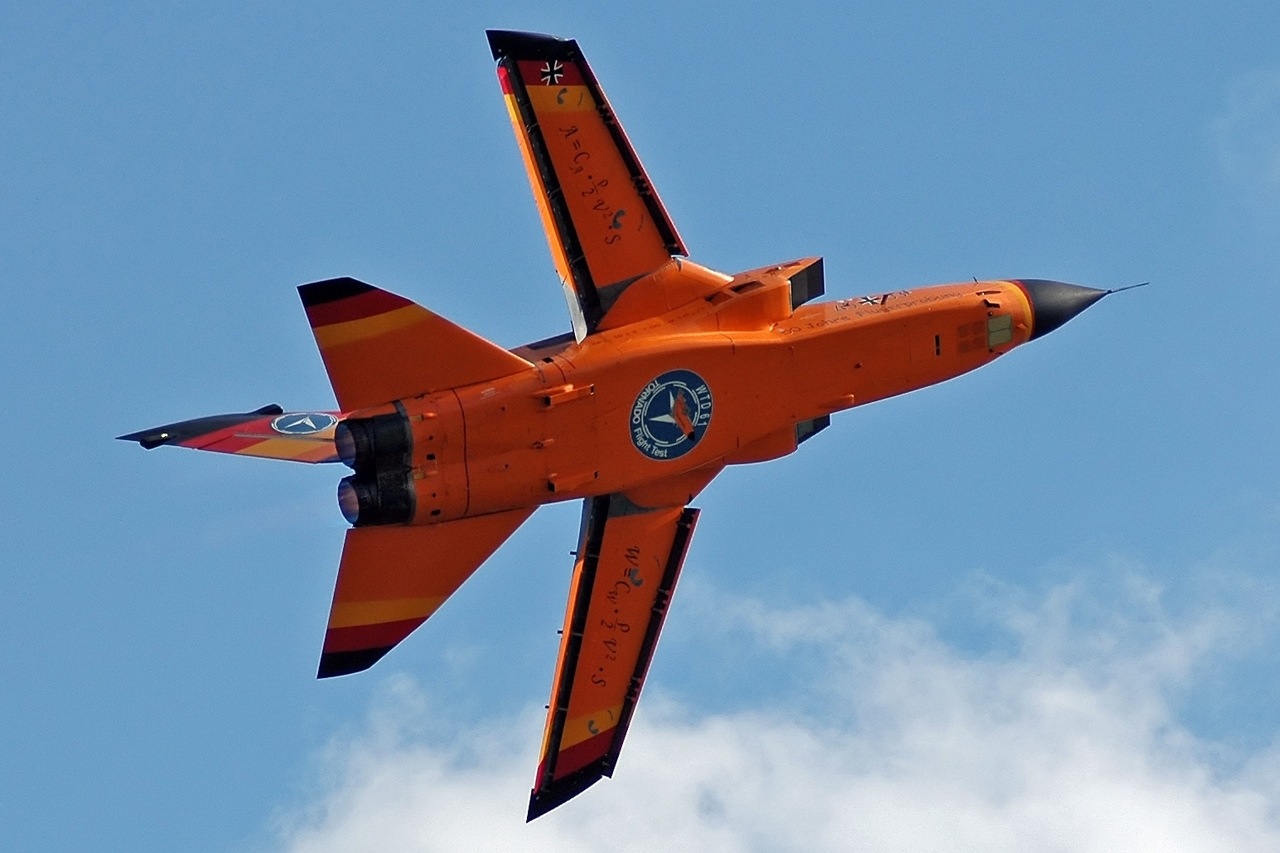Tornado: (114, 27, 1150, 824)
